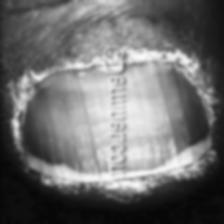Toxin: (130, 47, 218, 180)
